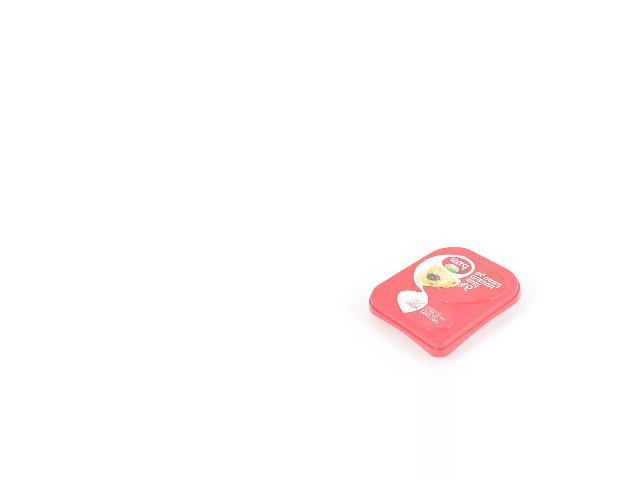cheese: (368, 246, 520, 358)
